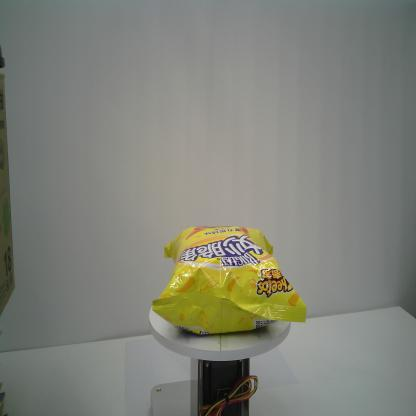Puffed Food: (150, 223, 309, 336)
